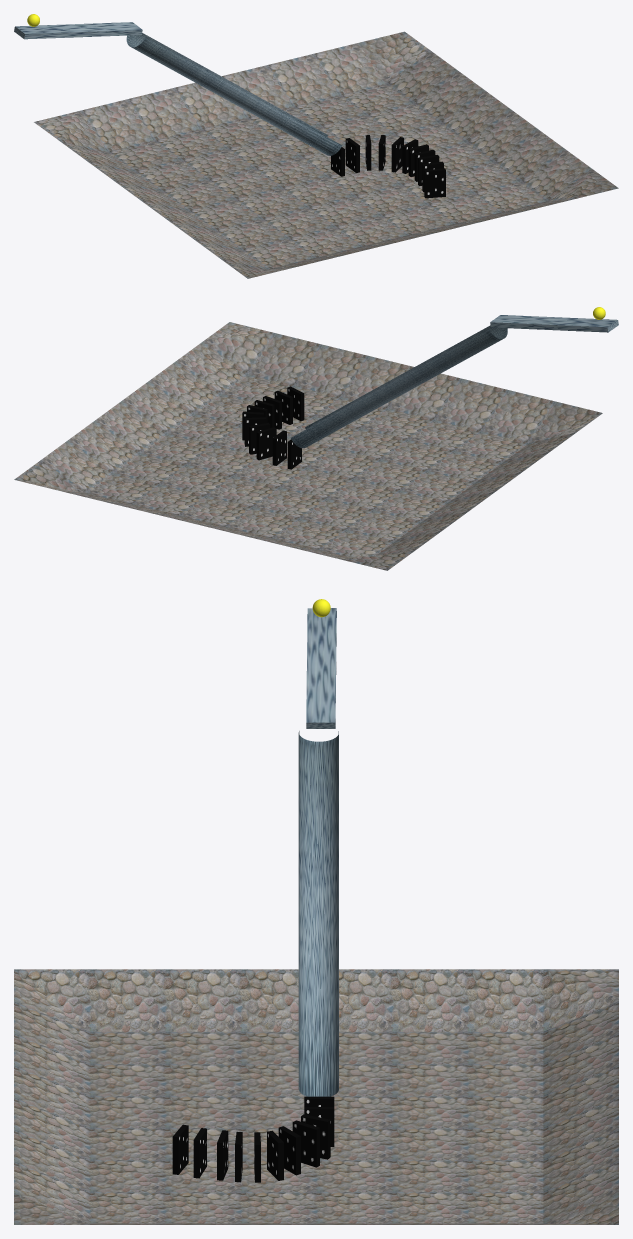
The model's file is Domino.dae.
3 views of the same model, one above another, from view 1: azimuth 30°, elevation 25°; view 2: azimuth 150°, elevation 25°; view 3: azimuth 270°, elevation 25° (orthographic). The views are drawn at different scales.
Visible parts, largest first — view 1: Plane, Tube, Brett, Tube_001, Cube_011, Cube_002, Cube_004; view 2: Plane, Tube, Brett, Tube_001, Cube_003, Cube_002, Cube_011, Cube_010; view 3: Plane, Tube_001, Brett, Tube, Cube_005.
Part boxes in pixels (x1,y1,x2,y2): Plane: (34,31,618,278); Tube: (126,37,342,155); Brett: (14,22,142,39); Tube_001: (127,33,327,136); Cube_011: (424,168,445,198); Cube_002: (345,138,359,172); Cube_004: (391,137,403,172); Plane: (14,322,602,570); Tube: (291,328,507,448); Brett: (490,315,618,332); Tube_001: (305,325,507,429); Cube_003: (256,427,276,460); Cube_002: (272,430,286,465); Cube_011: (287,386,304,421); Cube_010: (274,390,292,424); Plane: (14,969,618,1224); Tube_001: (299,735,338,1096); Brett: (306,608,336,728); Tube: (298,731,338,1096); Cube_005: (292,1120,319,1167).
Size of the model in its own units: 54.75 by 41.4 by 24.7.
4 materials, 4 textured.
